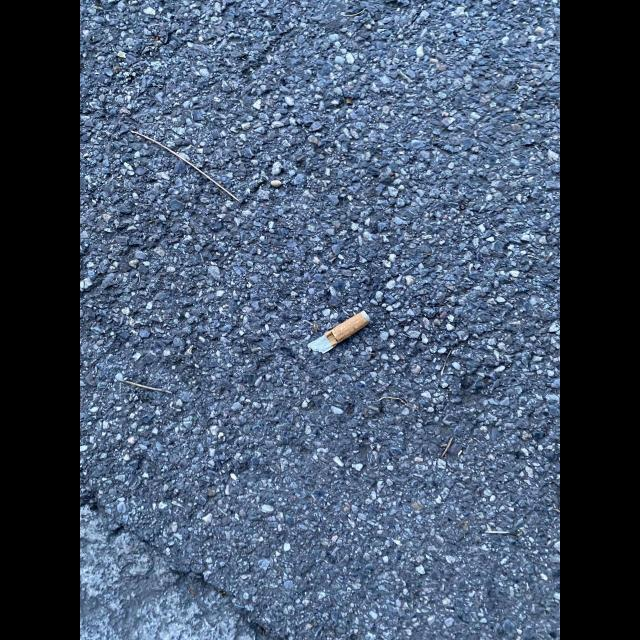cigarette: (308, 310, 370, 354)
